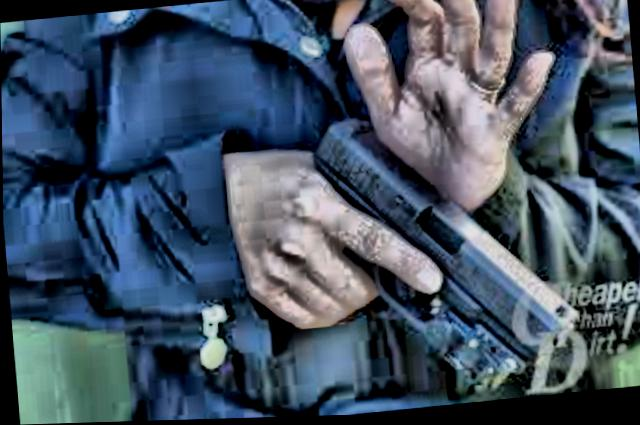pistol: (277, 94, 578, 401)
